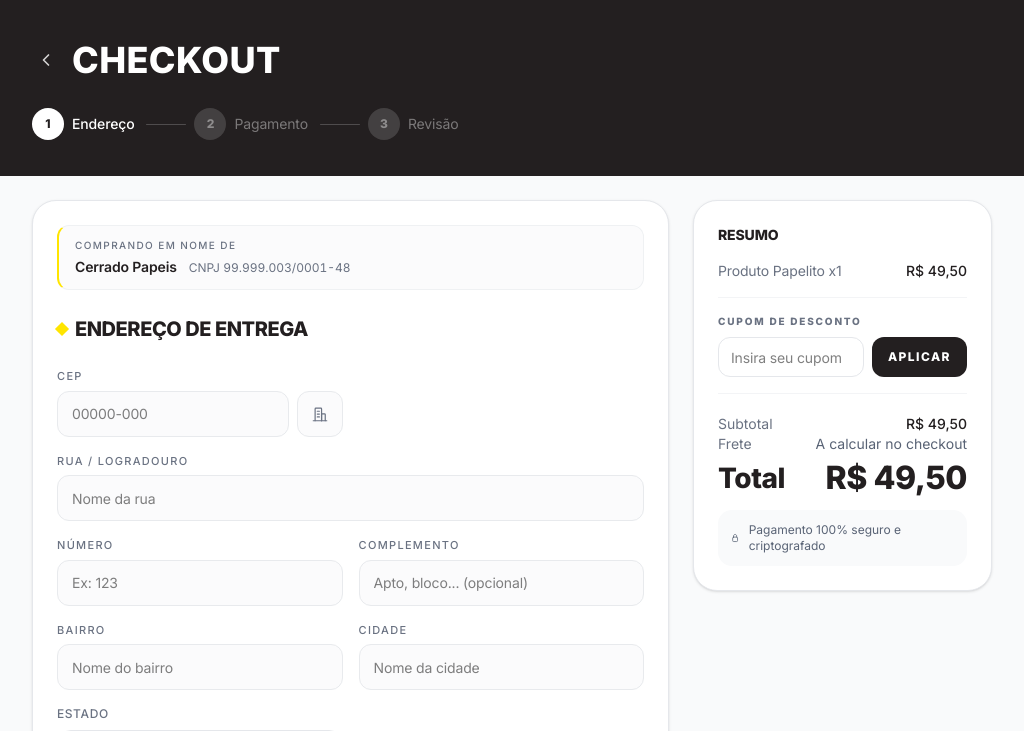
Test case: CheckoutAddressStepContent › fills the CEP from the company registry and autocompletes the address
Click the button named "usar o cep do cadastro da empresa".
click(320, 414)  # box x1=296 y1=390 x2=342 y2=436
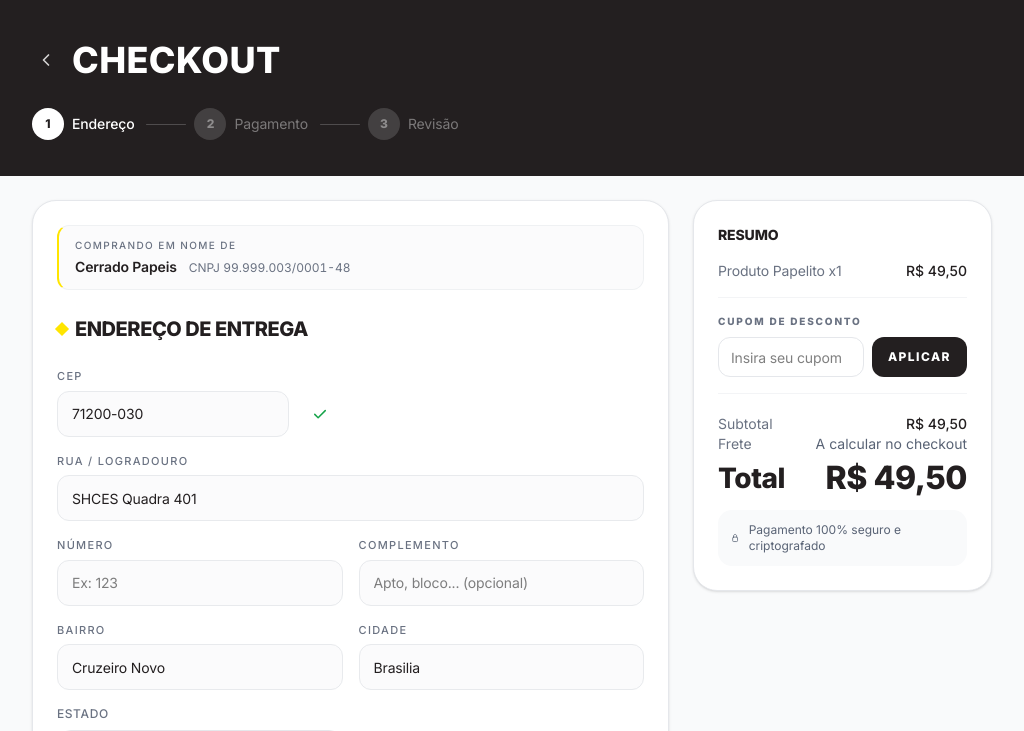
Expected: the button named "CEP do cadastro da empresa já aplicado: 71200-030" is disabled, x1=296 y1=390 x2=342 y2=436
